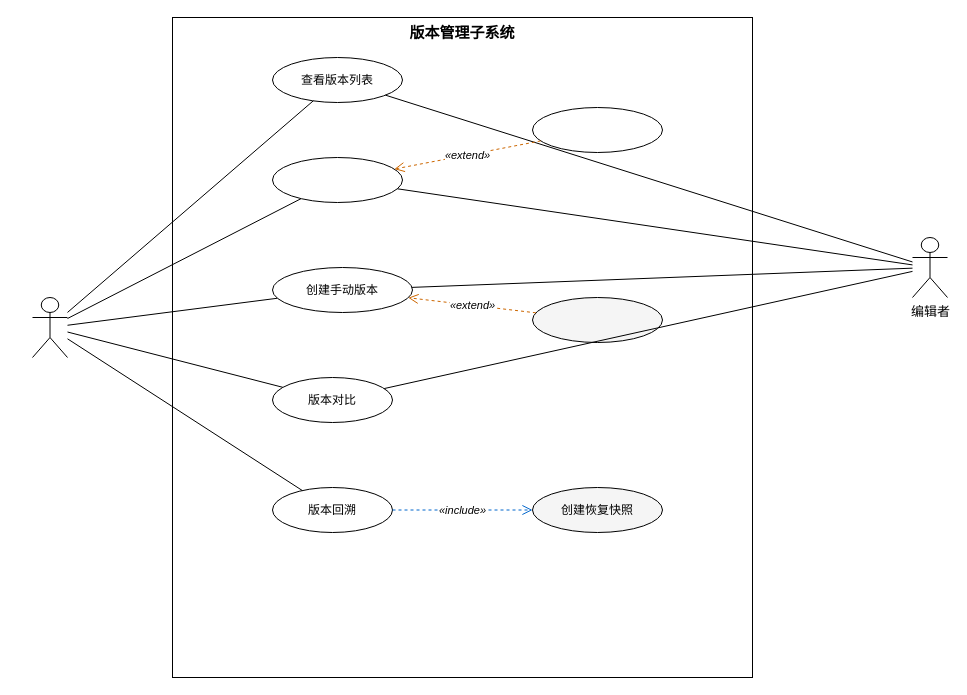
Image size: 967x695. Some labels were removed from this diagram. Here are the shapes that lost their labels. From the top down, the centre of each, then its label:
the point at 597,129: 设置版本标签
the point at 337,179: 查看版本详情
the point at 50,327: 文档拥有者
the point at 597,319: 自动保存版本
